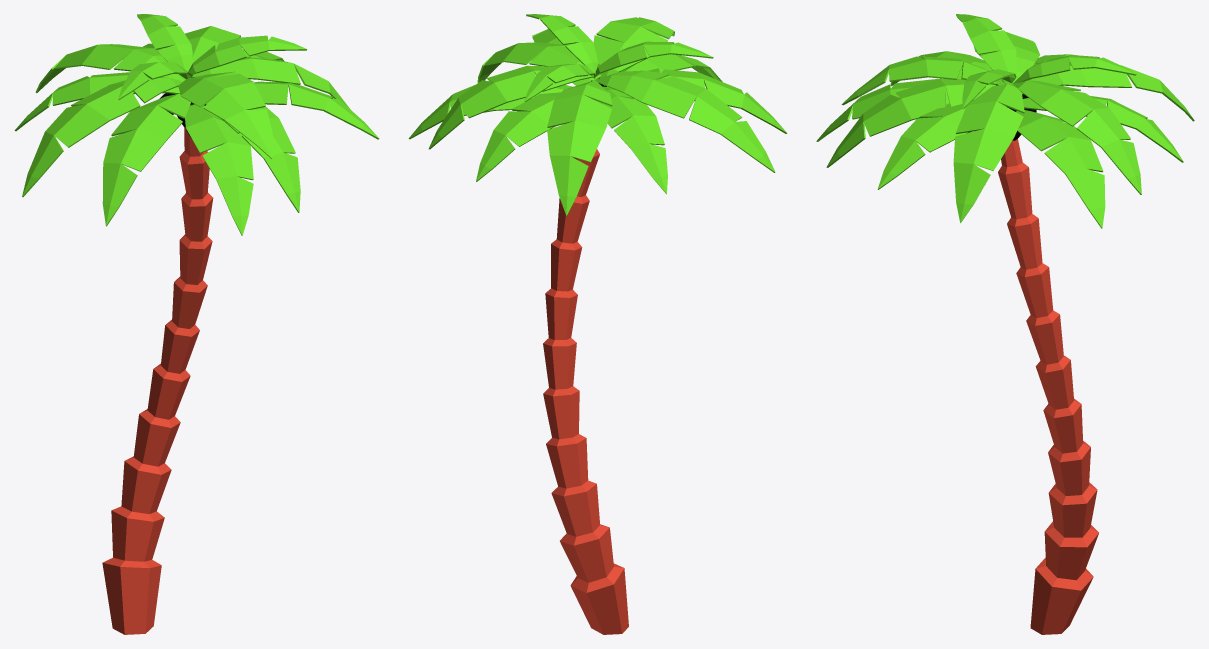
Rendered from Palm_5.fbx.
3 views of the same model, side by side, from view 1: azimuth 30°, elevation 25°; view 2: azimuth 150°, elevation 25°; view 3: azimuth 270°, elevation 25° (orthographic). The views are drawn at different scales.
Parts seen in each view (by area): view 1: Palm_5; view 2: Palm_5; view 3: Palm_5.
Part boxes in pixels (<box>): Palm_5: <box>14,14,379,634</box>; Palm_5: <box>408,14,787,634</box>; Palm_5: <box>816,14,1194,634</box>.
Bounding box in the file's own units: 2.74 × 4.71 × 2.72.
